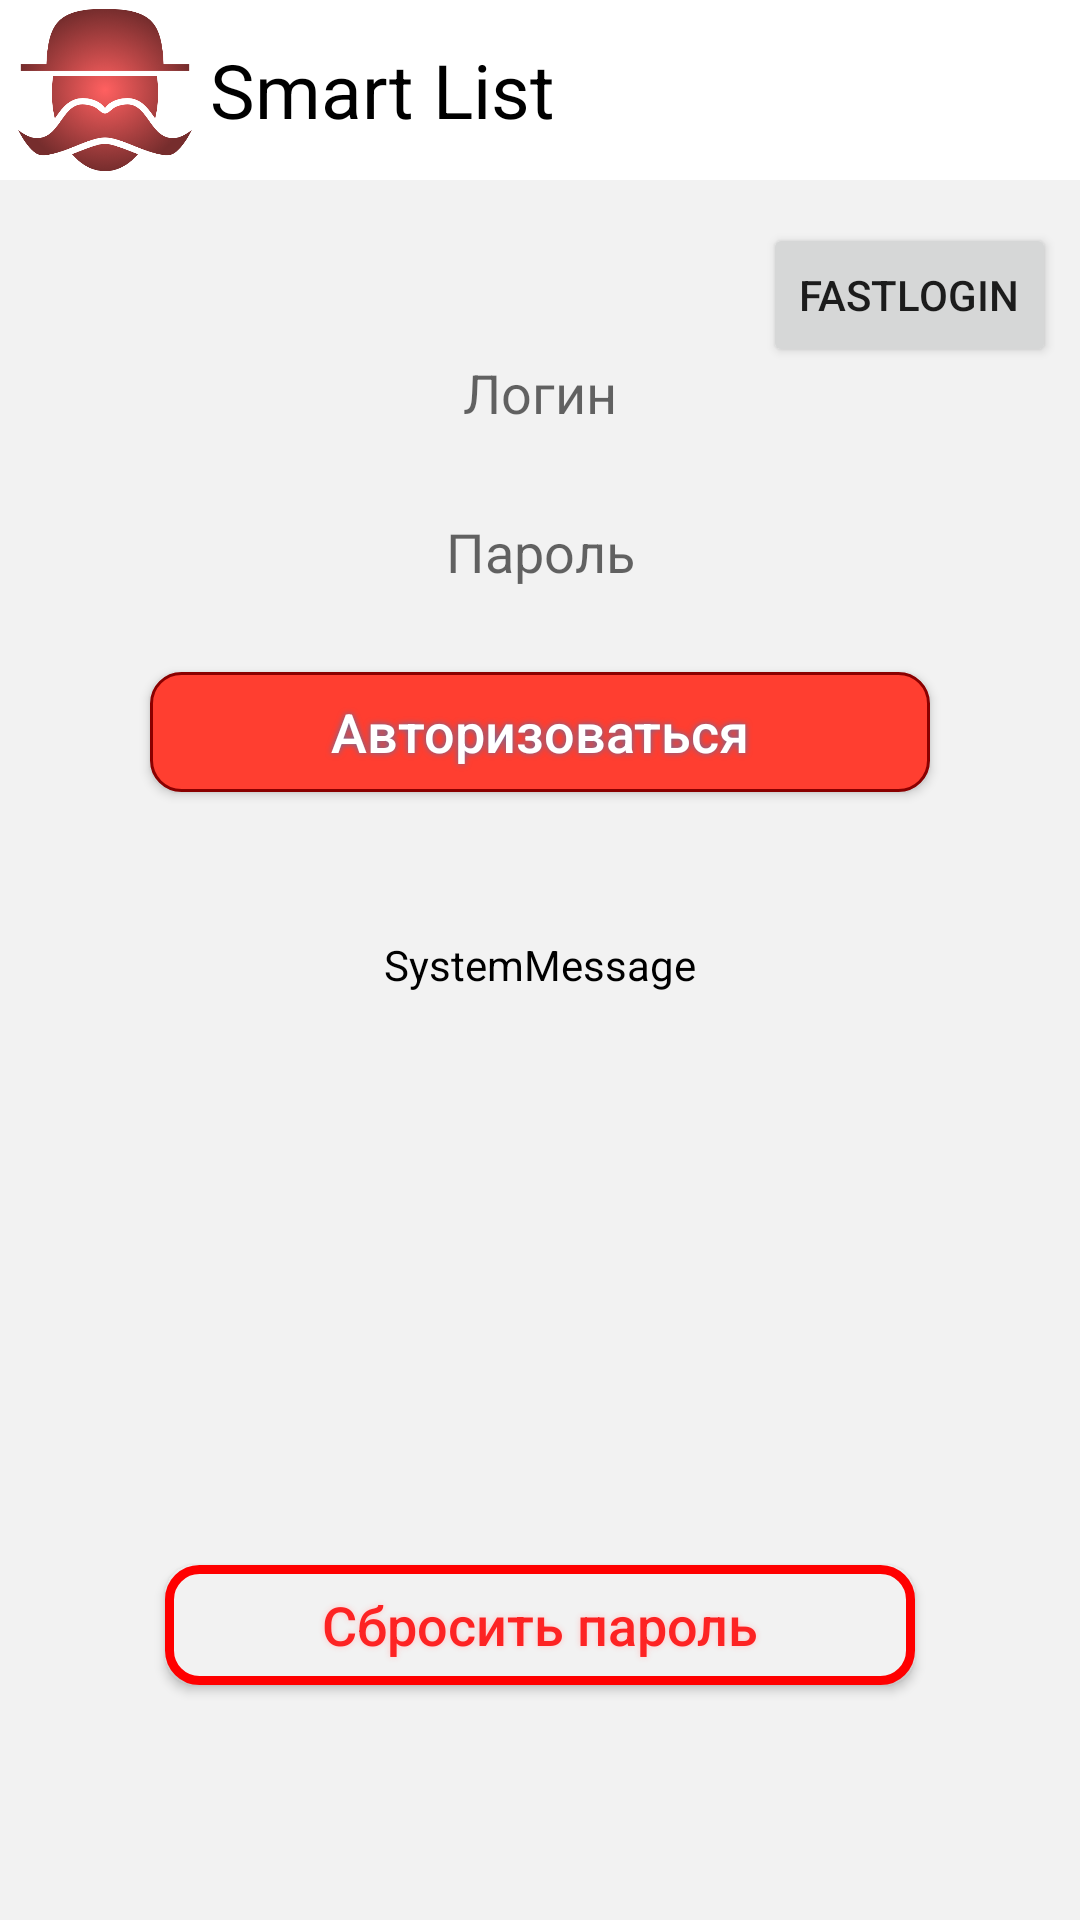

Icon click points for this 1080*1920 phone screenshot, format [x,y]:
mustache: [105,90]
